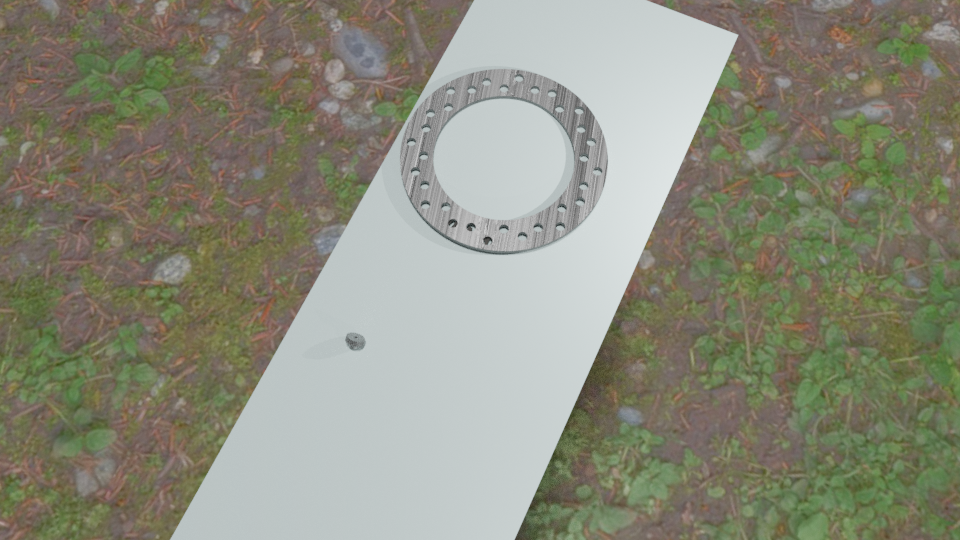yamaha_letters: (447, 218, 493, 245)
